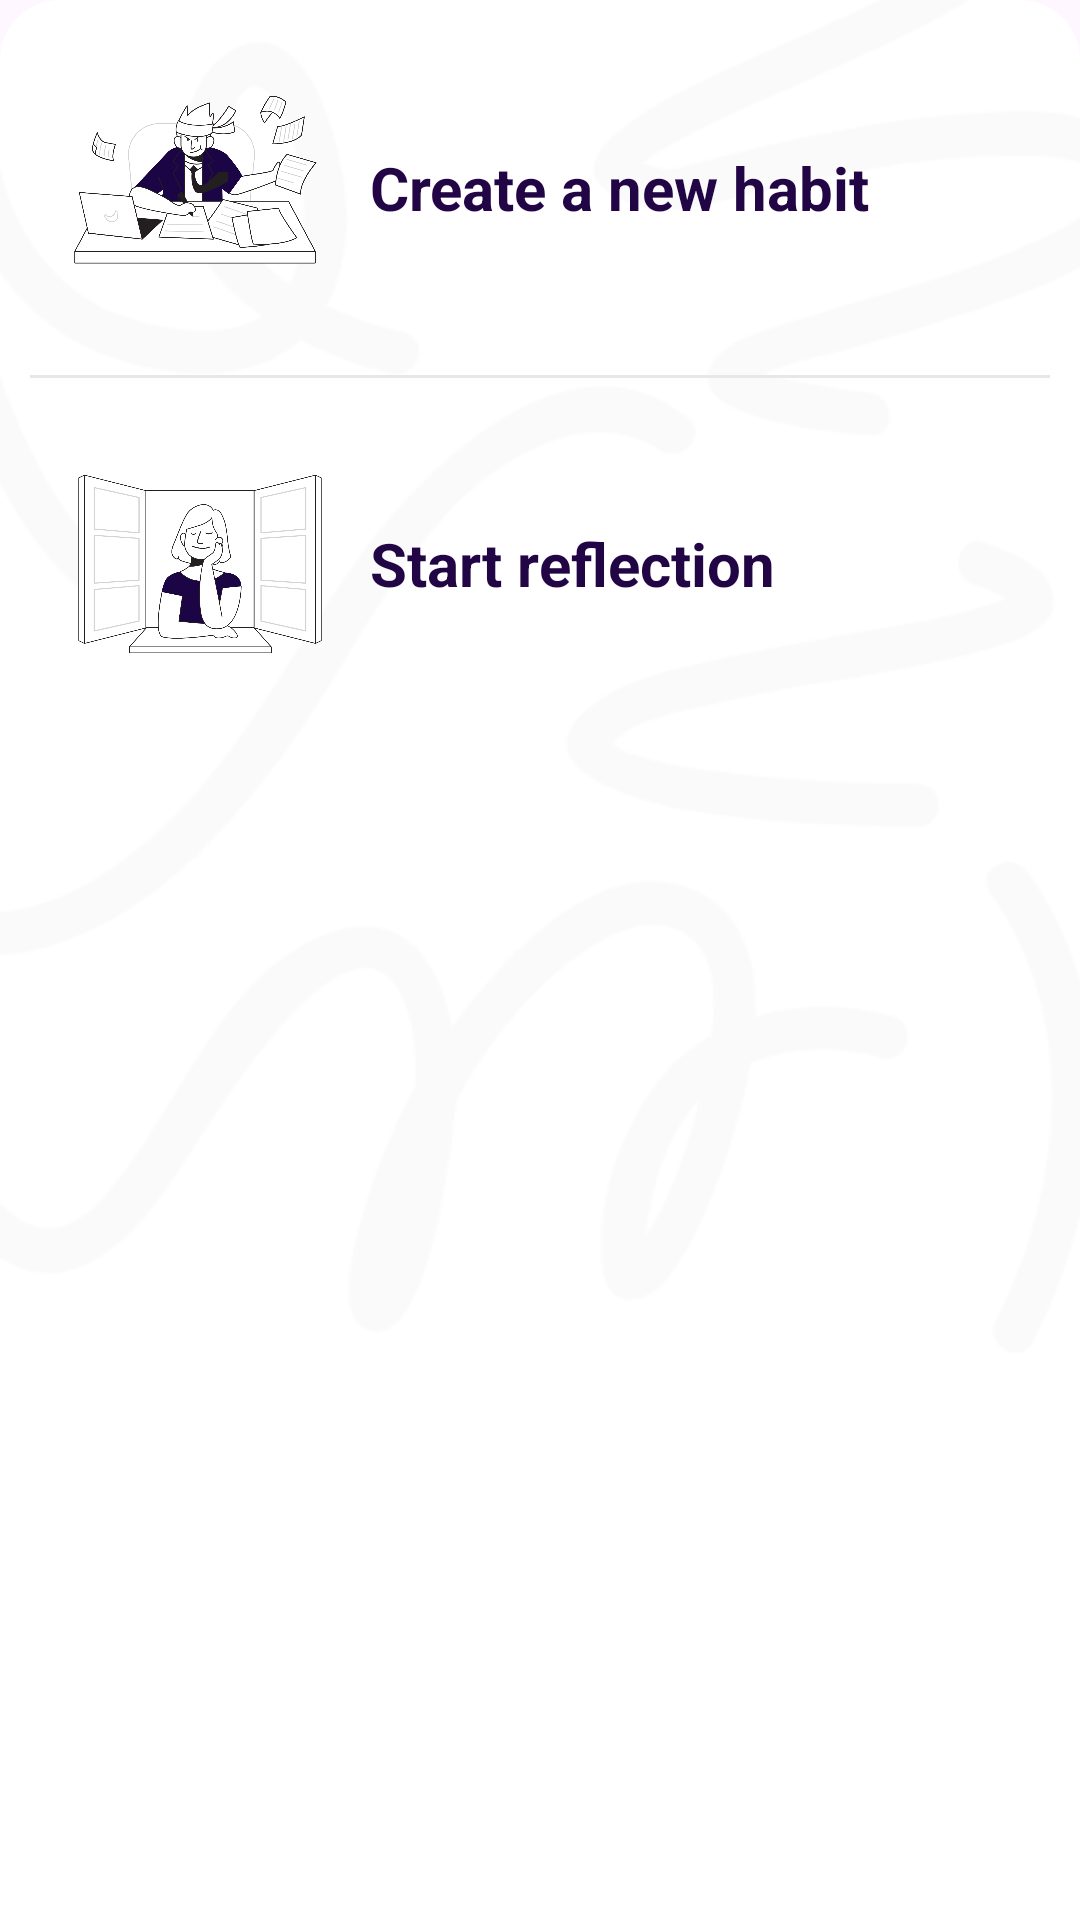

Icon click points for this 1080 x 1920 phone screenshot, format point (x, y):
daydreaming: point (200, 564)
fast work: point (195, 180)
